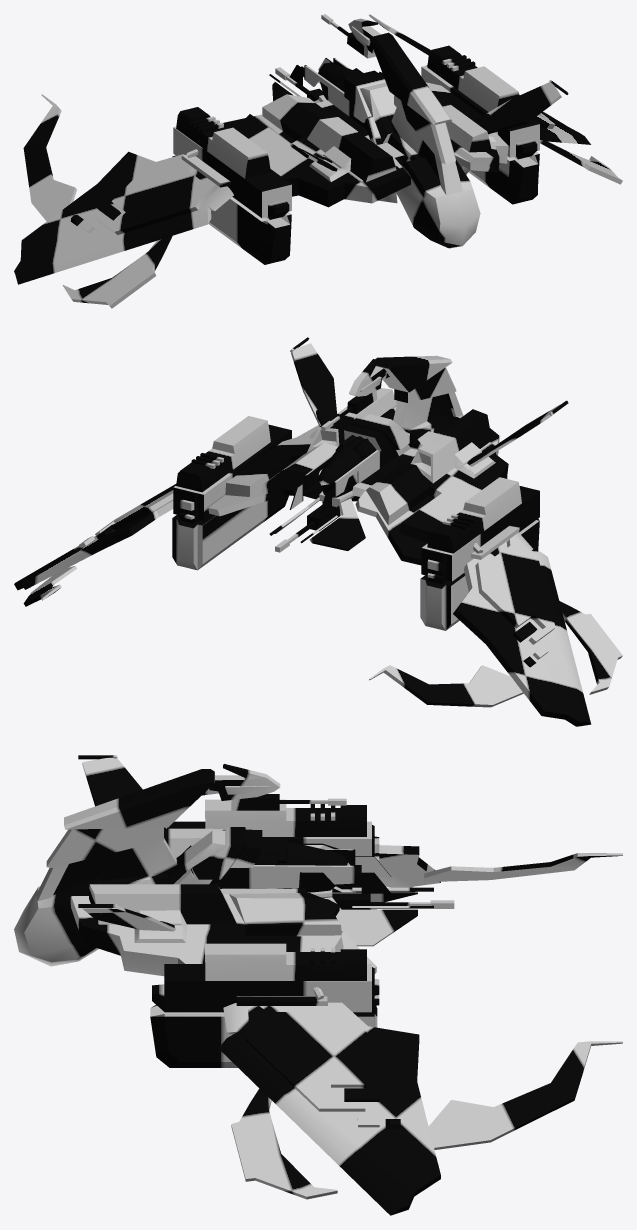
File: cyborg.obj
3 views of the same model, one above another, from view 1: azimuth 30°, elevation 25°; view 2: azimuth 150°, elevation 25°; view 3: azimuth 270°, elevation 25° (orthographic). The views are drawn at different scales.
Parts seen in each view (by area): view 1: cyborg_ship; view 2: cyborg_ship; view 3: cyborg_ship.
Boxes of the visible parts, x1,y1,x2,y2 form: cyborg_ship: [14, 14, 622, 308]; cyborg_ship: [14, 337, 622, 726]; cyborg_ship: [14, 755, 622, 1215].
Bounding box in the file's own units: 132 × 53.53 × 103.
Materials: 1 (1 with a texture image).
